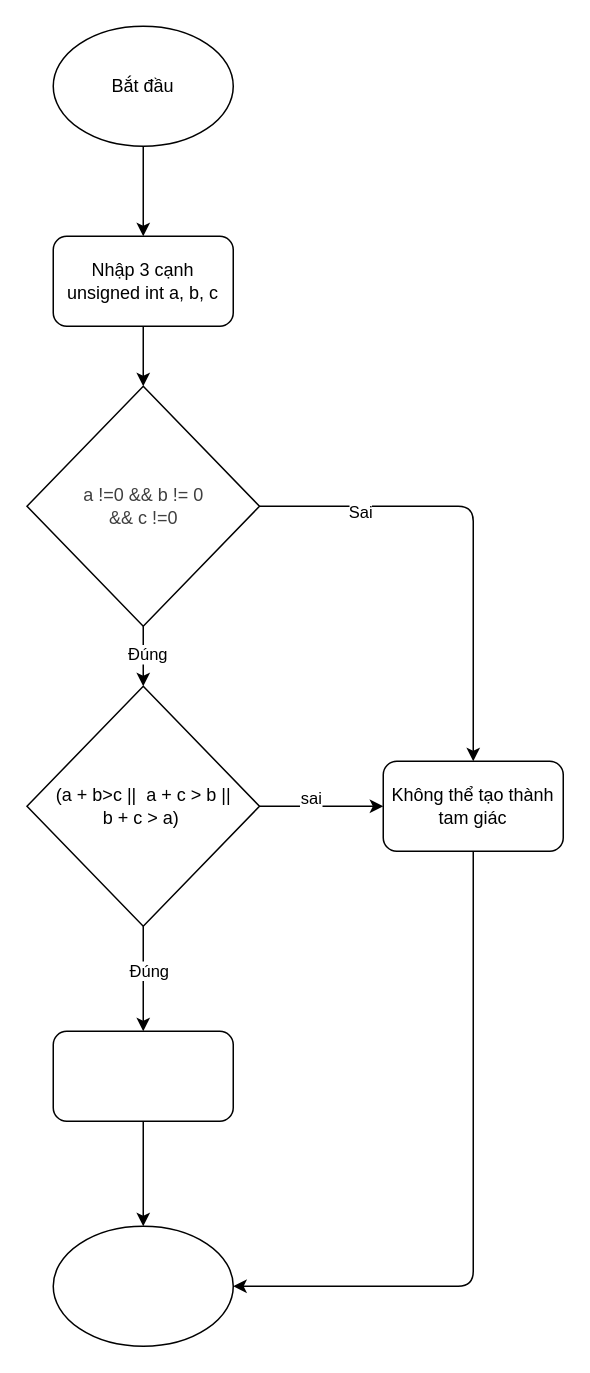
Some shapes in this 590 by 1373 pixel diagram are drawn without their labels. The shapes that lost their labels are listed below. From the top down, each one's box as (x1, y1, x2, y2) in pixels, then its label:
(52, 1030, 233, 1121): Có thể tạo thành 1 tam giác
(52, 1225, 233, 1346): Kết thúc
